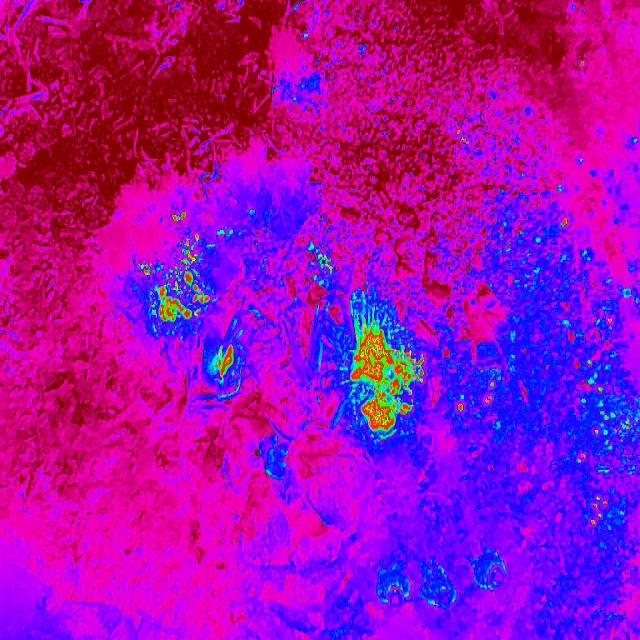fire: (565, 312, 640, 536), (352, 324, 424, 440), (143, 237, 210, 327), (451, 382, 499, 419), (214, 342, 235, 376), (316, 254, 336, 280), (168, 207, 187, 226), (556, 214, 573, 233)
